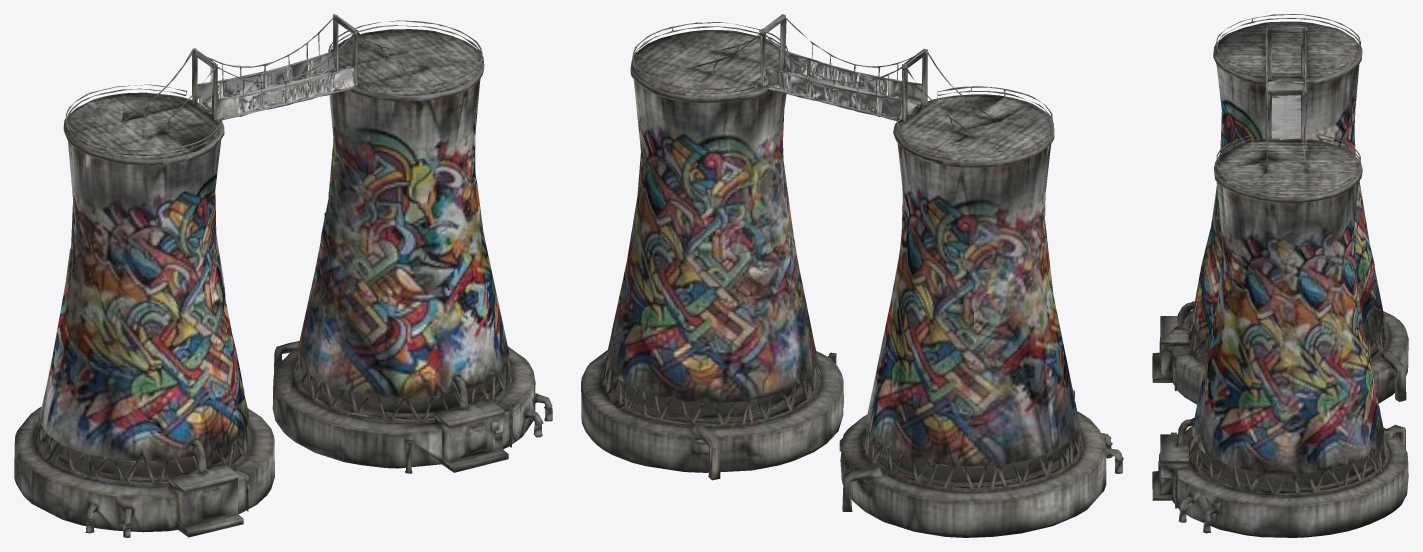
File: towers.glb
3 views of the same model, side by side, from view 1: azimuth 30°, elevation 25°; view 2: azimuth 150°, elevation 25°; view 3: azimuth 270°, elevation 25° (orthographic). The views are drawn at different scales.
Bounding box in the file's own units: 1.9 × 1.52 × 0.9518.
1 material, 1 textured.
